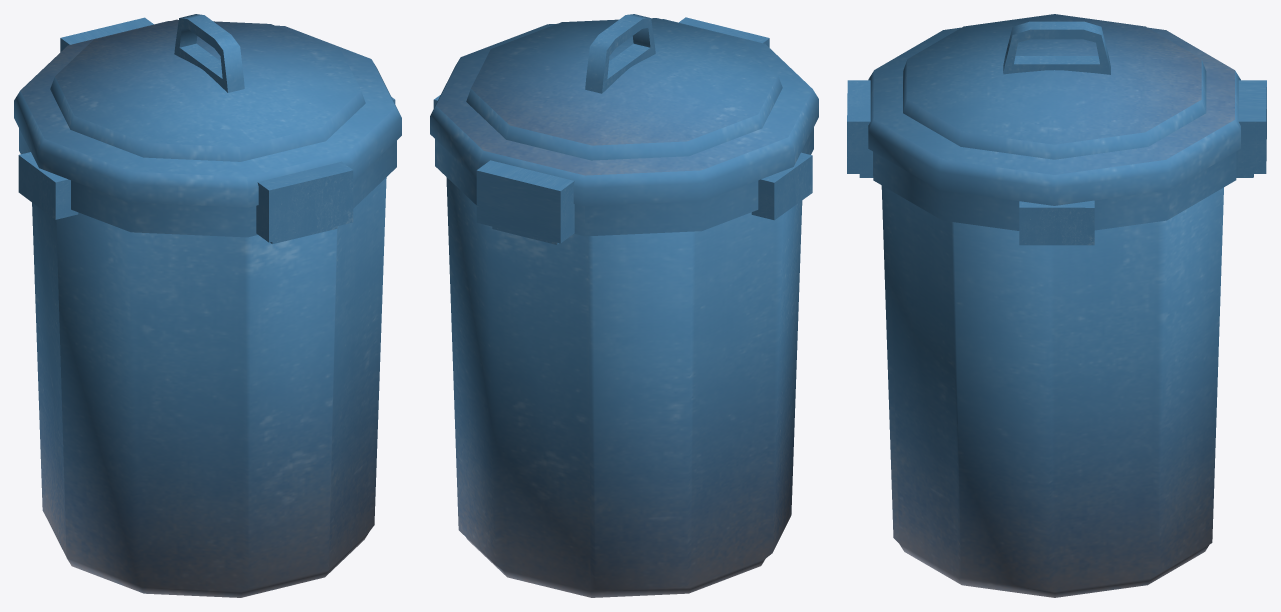
File: trashkan01a.fbx
3 renders of one model, left to right at view 1: azimuth 30°, elevation 25°; view 2: azimuth 150°, elevation 25°; view 3: azimuth 270°, elevation 25°, orthographic.
Visible parts, largest first — view 1: trashkan01a; view 2: trashkan01a; view 3: trashkan01a.
Boxes of the visible parts, left/top/right/bottom form: trashkan01a: left=14, top=14, right=401, bottom=597; trashkan01a: left=430, top=14, right=818, bottom=597; trashkan01a: left=847, top=14, right=1266, bottom=597.
Size of the model in its own units: 65.49 by 92.77 by 69.64.
